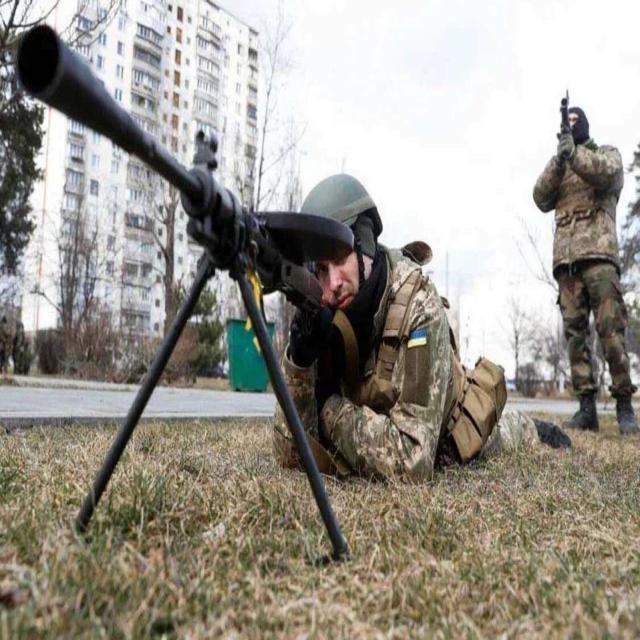sniper rifle: (12, 15, 346, 594)
